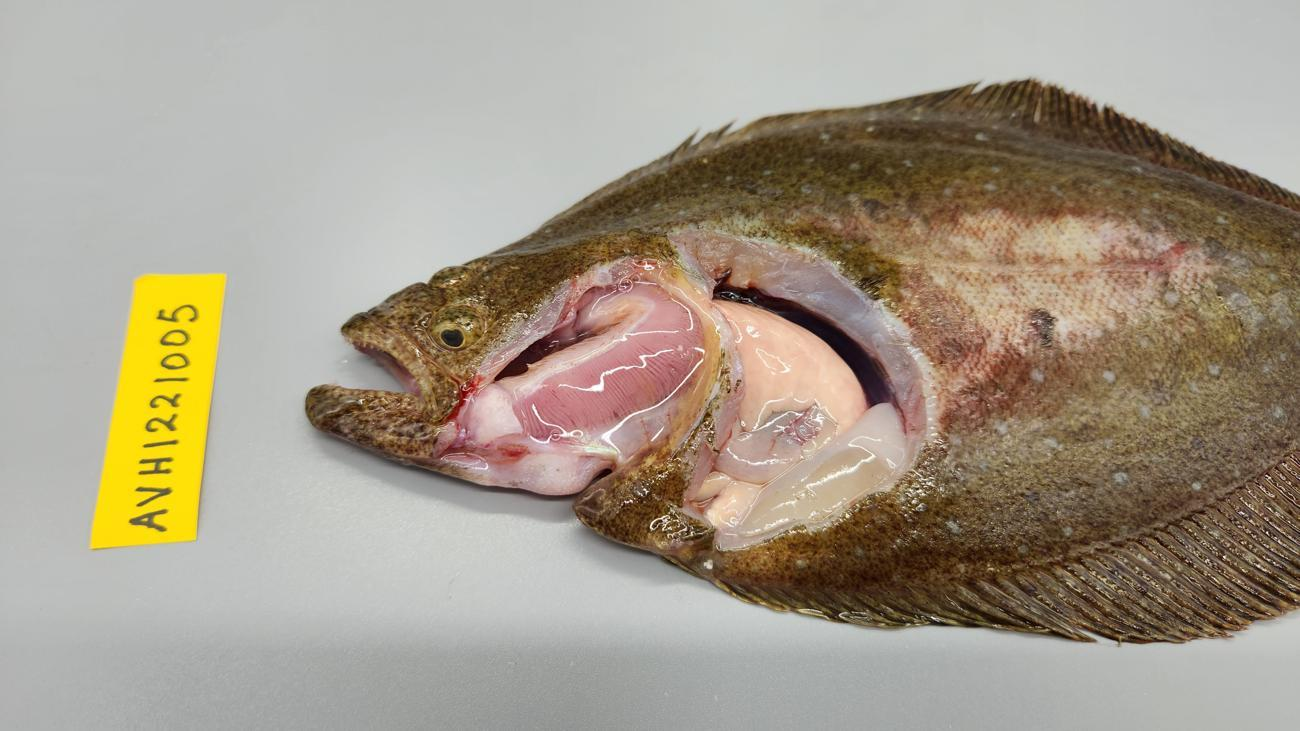VIGIP: (514, 281, 702, 433)
